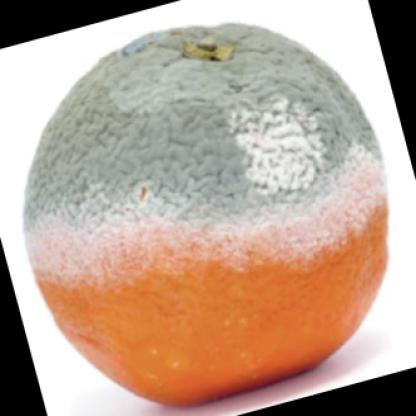rotten: (28, 28, 389, 401)
